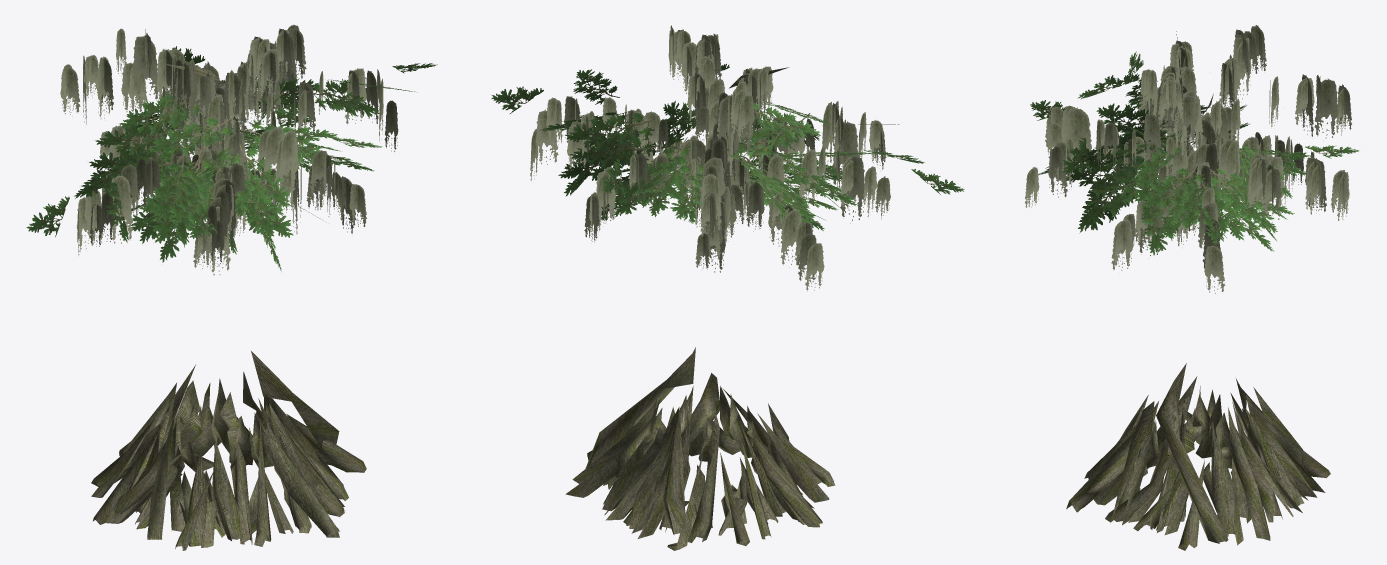
File: bald-cypress.lod1.glb
The picture shows the model from 3 angles, left to right: view 1: azimuth 30°, elevation 25°; view 2: azimuth 150°, elevation 25°; view 3: azimuth 270°, elevation 25°; orthographic projection. The views are drawn at different scales.
Visible parts, largest first — view 1: bald_cypress_03:Mesh_bald_cypress_03:Leaves_4_0, bald_cypress_03:Mesh_bald_cypress_03:Fronds_3_0; view 2: bald_cypress_03:Mesh_bald_cypress_03:Leaves_4_0, bald_cypress_03:Mesh_bald_cypress_03:Fronds_3_0; view 3: bald_cypress_03:Mesh_bald_cypress_03:Leaves_4_0, bald_cypress_03:Mesh_bald_cypress_03:Fronds_3_0.
Boxes of the visible parts, <box> form: bald_cypress_03:Mesh_bald_cypress_03:Leaves_4_0: <box>26,24,437,275</box>; bald_cypress_03:Mesh_bald_cypress_03:Fronds_3_0: <box>91,63,366,550</box>; bald_cypress_03:Mesh_bald_cypress_03:Leaves_4_0: <box>491,25,964,291</box>; bald_cypress_03:Mesh_bald_cypress_03:Fronds_3_0: <box>565,67,835,550</box>; bald_cypress_03:Mesh_bald_cypress_03:Leaves_4_0: <box>1025,25,1359,293</box>; bald_cypress_03:Mesh_bald_cypress_03:Fronds_3_0: <box>1066,31,1330,550</box>.
Size of the model in its own units: 18.62 by 17.47 by 13.29.
Materials: 2 (2 with a texture image).
